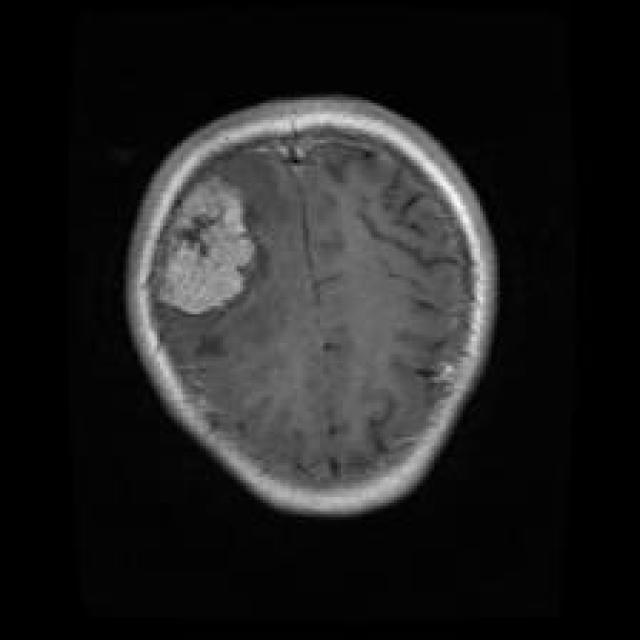meningioma_tumor: (144, 168, 274, 334)
